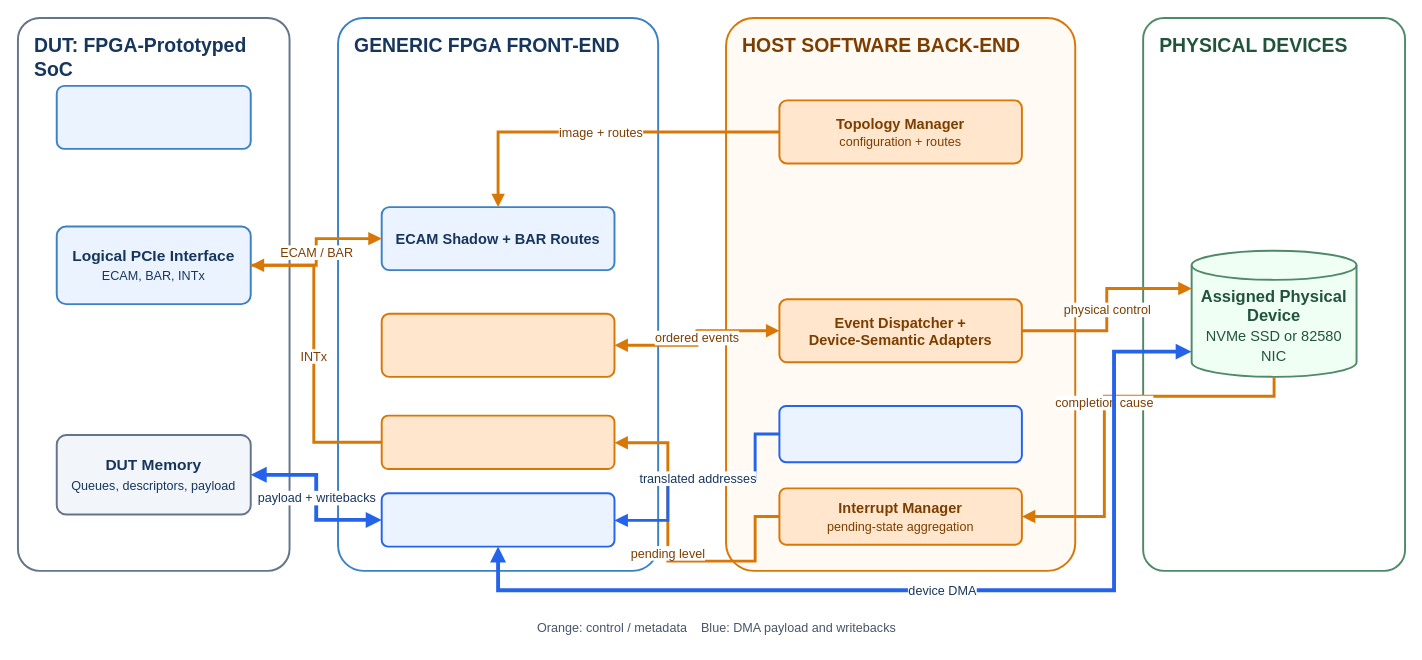
The diagram is 1422 pixels wide and 660 high, and some of its shapes have lost their labels. Here are the shapes that lost their labels. From the top down, the centre of each, then its label:
At [153,116]: "Linux + Native Drivers".
At [497,344]: "Transaction Channel + Mailbox".
At [497,441]: "Interrupt Injector".
At [900,433]: "Endpoint Contexts state, binding, address map".
At [497,519]: "DMA Windows".
